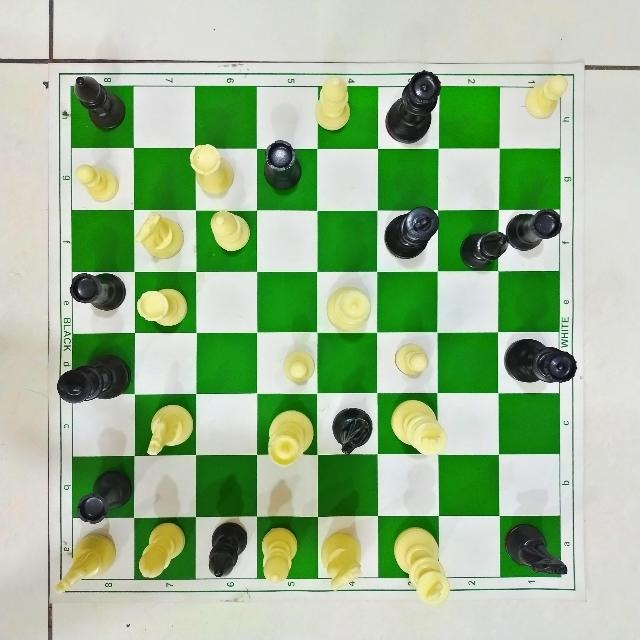black-bishop: (66, 70, 130, 136), (203, 520, 251, 584), (459, 225, 510, 279)
black-king: (55, 354, 133, 412), (383, 202, 441, 262)
black-knight: (503, 518, 569, 580), (326, 404, 376, 456)
black-queen: (500, 332, 582, 394), (384, 68, 443, 146)
black-rook: (75, 466, 131, 525), (66, 267, 130, 316), (505, 206, 566, 251), (261, 137, 304, 190)
white-bishop: (137, 520, 187, 580), (260, 521, 302, 587), (311, 73, 353, 136), (204, 207, 253, 259)
white-king: (391, 522, 453, 605), (388, 395, 448, 460)
white-knight: (52, 528, 118, 598), (318, 529, 369, 597), (134, 207, 184, 259), (143, 405, 195, 455)
white-pawn: (71, 158, 125, 199), (524, 74, 570, 122), (390, 336, 431, 377), (282, 349, 316, 385)
white-queen: (263, 405, 317, 468), (324, 284, 374, 333)
white-rook: (184, 139, 235, 195), (135, 282, 189, 328)
